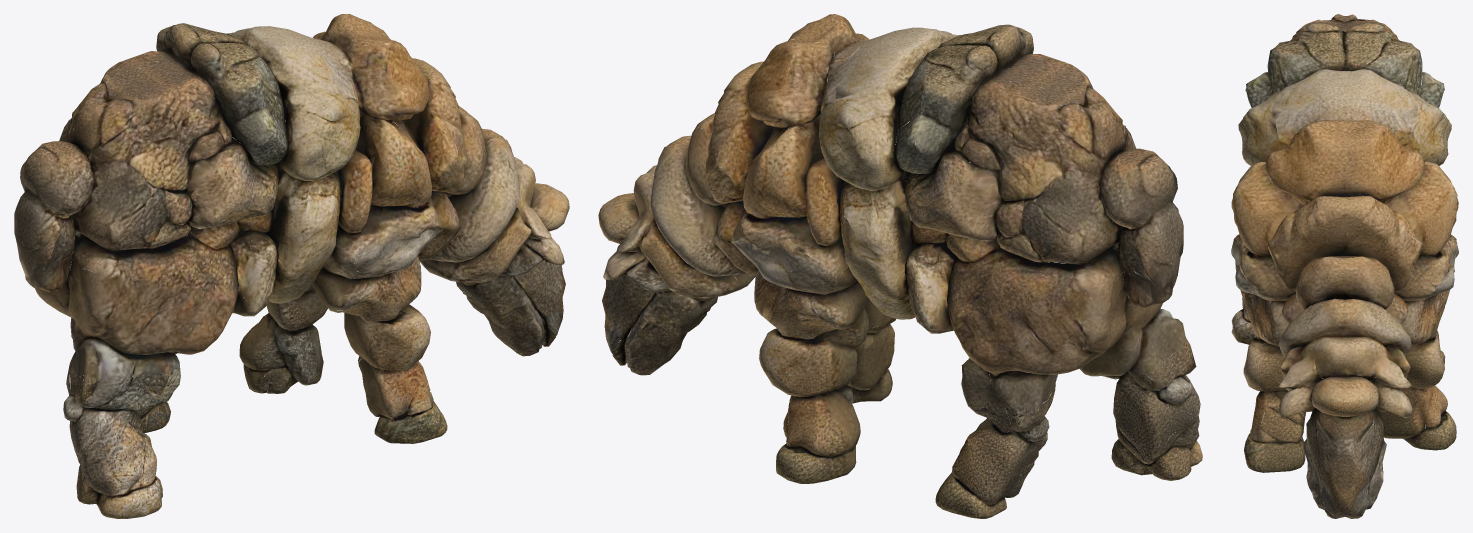
The model's file is steinschaf_1k.glb.
3 renders of one model, left to right at view 1: azimuth 30°, elevation 25°; view 2: azimuth 150°, elevation 25°; view 3: azimuth 270°, elevation 25°, orthographic. The views are drawn at different scales.
Visible parts, largest first — view 1: tripo_node_3f0b680c-603f-4f5e-b29c-93aa3c0cea84; view 2: tripo_node_3f0b680c-603f-4f5e-b29c-93aa3c0cea84; view 3: tripo_node_3f0b680c-603f-4f5e-b29c-93aa3c0cea84.
Boxes of the visible parts, x1=… form: tripo_node_3f0b680c-603f-4f5e-b29c-93aa3c0cea84: x1=14, y1=14, x2=569, y2=518; tripo_node_3f0b680c-603f-4f5e-b29c-93aa3c0cea84: x1=598, y1=14, x2=1202, y2=518; tripo_node_3f0b680c-603f-4f5e-b29c-93aa3c0cea84: x1=1231, y1=14, x2=1458, y2=518.
Size of the model in its own units: 1.47 by 1.05 by 0.5986.
1 material, 1 textured.
